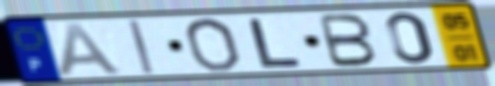0: (383, 10, 435, 66)
A: (57, 21, 128, 78)
B: (316, 13, 380, 69)
I: (126, 19, 157, 76)
L: (245, 17, 305, 69)
O: (182, 16, 244, 73)
